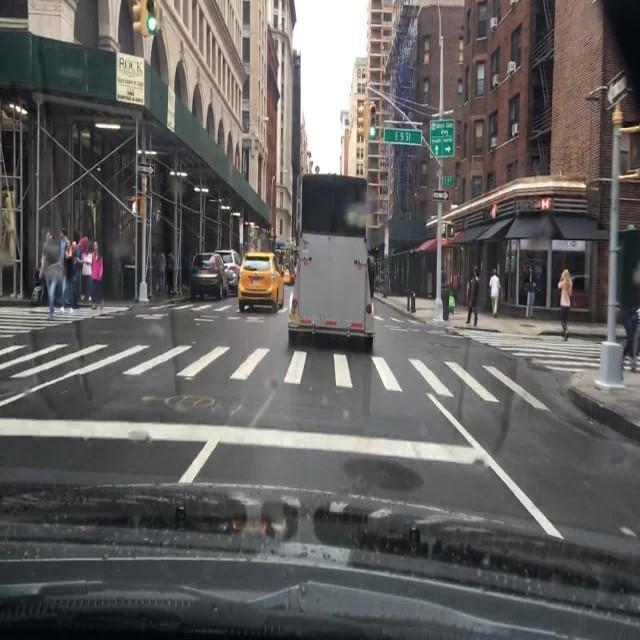normal: (225, 222, 288, 321)
